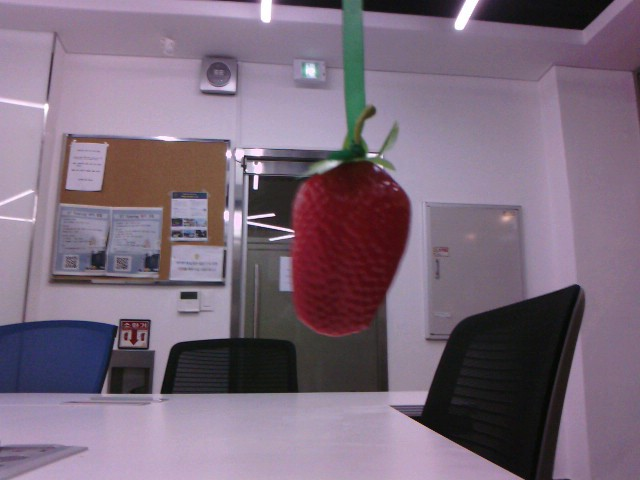strawberry: (282, 156, 414, 340)
